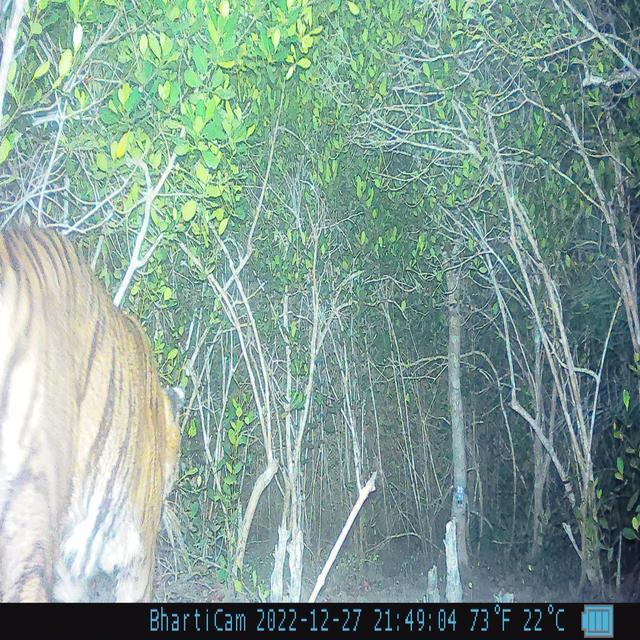tiger: (0, 221, 182, 602)
